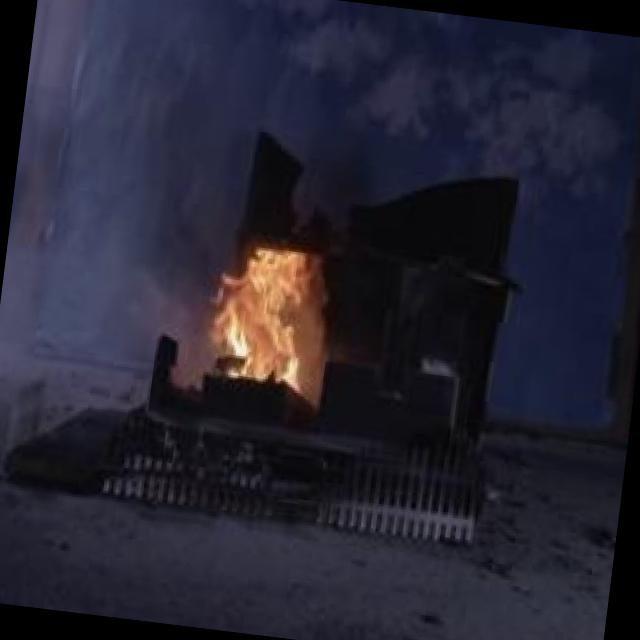fire: (185, 204, 354, 418)
